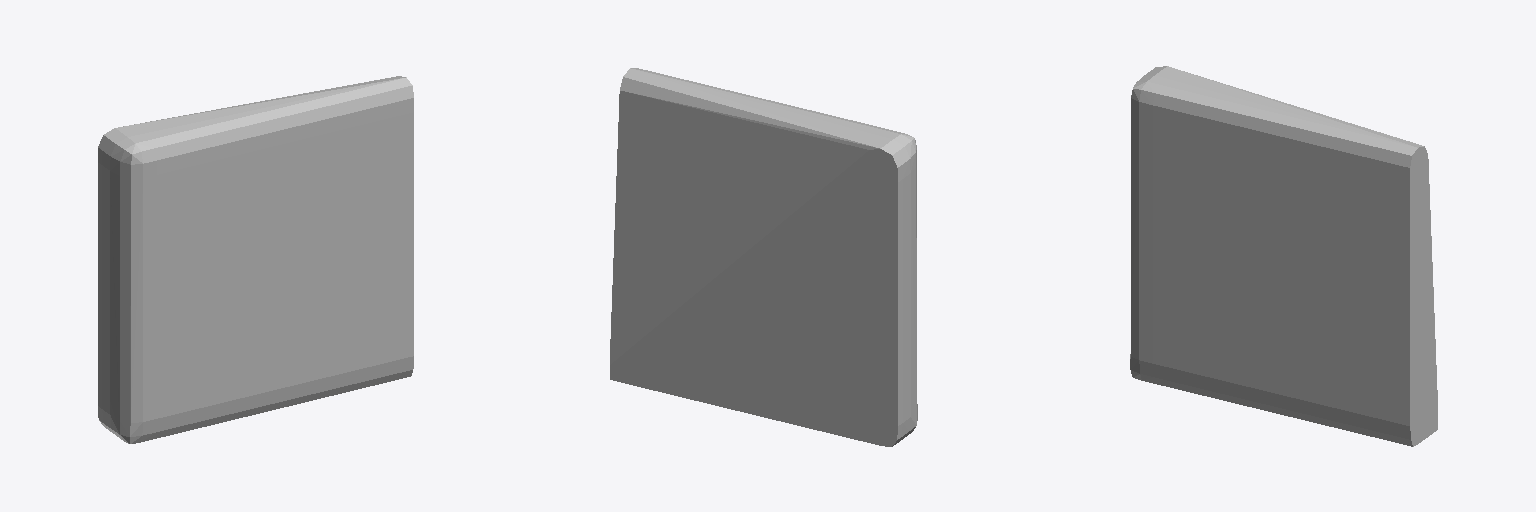
The model's file is ShipScene_collision_5.obj.
3 views of the same model, side by side, from view 1: azimuth 30°, elevation 25°; view 2: azimuth 150°, elevation 25°; view 3: azimuth 330°, elevation 25° (orthographic).
Bounding box in the file's own units: 107 × 105 × 18.15.